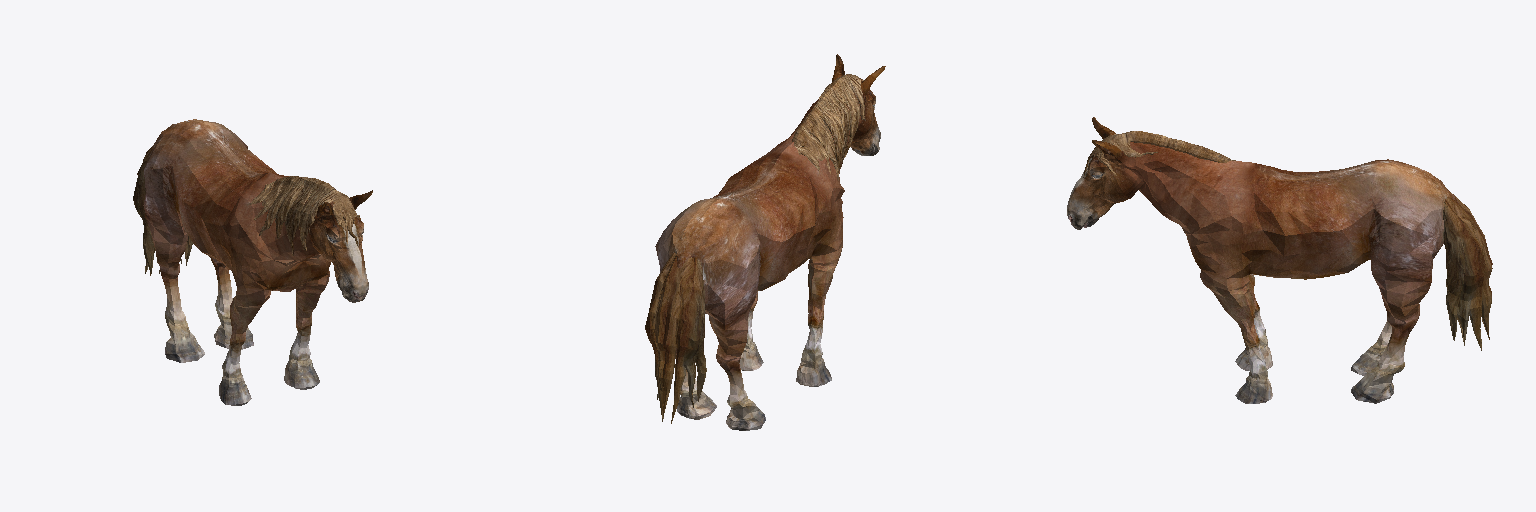
3 renders of one model, left to right at view 1: azimuth 30°, elevation 25°; view 2: azimuth 150°, elevation 25°; view 3: azimuth 270°, elevation 25°, orthographic.
Parts seen in each view (by area): view 1: Plane, BezierCurve_Mesh, BezierCurve.005_Mesh.005; view 2: Plane, BezierCurve.005_Mesh.005, BezierCurve_Mesh; view 3: Plane, BezierCurve.005_Mesh.005, BezierCurve_Mesh.
Part boxes in pixels (left/top/right/bottom): Plane: left=143, top=119, right=372, bottom=405; BezierCurve_Mesh: left=247, top=176, right=359, bottom=255; BezierCurve.005_Mesh.005: left=133, top=147, right=192, bottom=275; Plane: left=655, top=54, right=885, bottom=430; BezierCurve.005_Mesh.005: left=645, top=252, right=706, bottom=423; BezierCurve_Mesh: left=792, top=74, right=865, bottom=180; Plane: left=1067, top=117, right=1458, bottom=403; BezierCurve.005_Mesh.005: left=1443, top=196, right=1492, bottom=350; BezierCurve_Mesh: left=1083, top=131, right=1235, bottom=177.
Size of the model in its own units: 3.88 by 9.59 by 14.47.
3 materials, 3 textured.